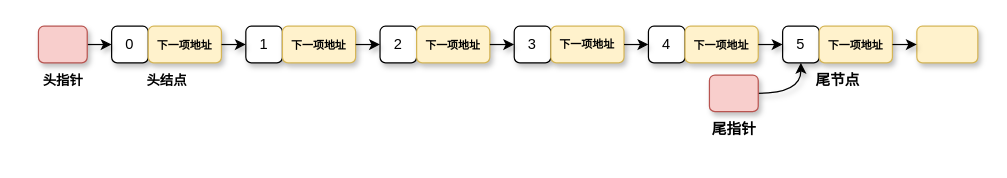
Image size: 1007x178. Some labels were removed from this diagram. The centre of each missing label's shape, as x and y in pixels:
head: point 63,45
nullptr: point 948,45
tail: point 734,94
